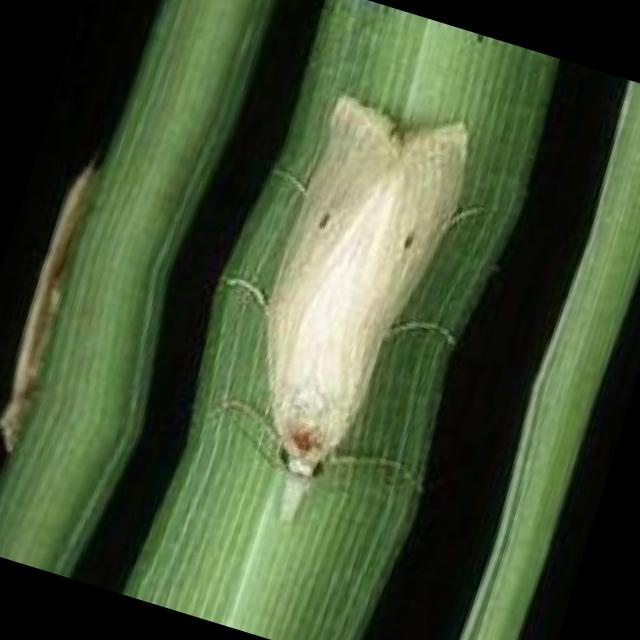stem-borer: (182, 70, 516, 560)
